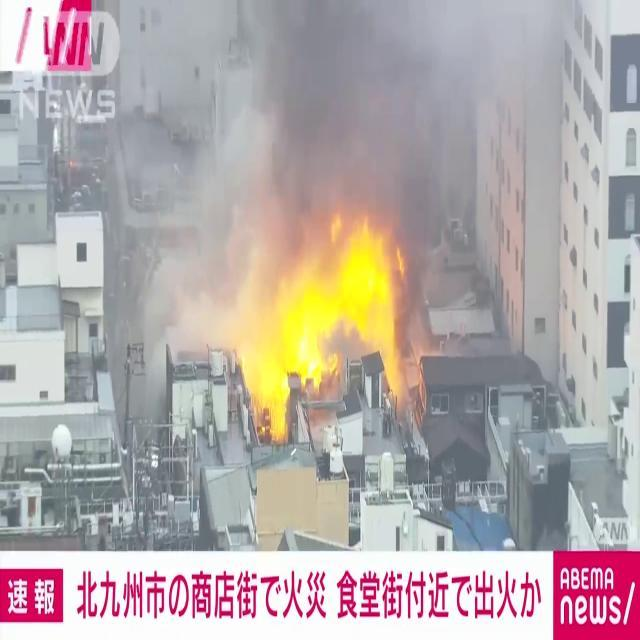Fire: (239, 206, 417, 434)
Smoke: (195, 0, 545, 252)
